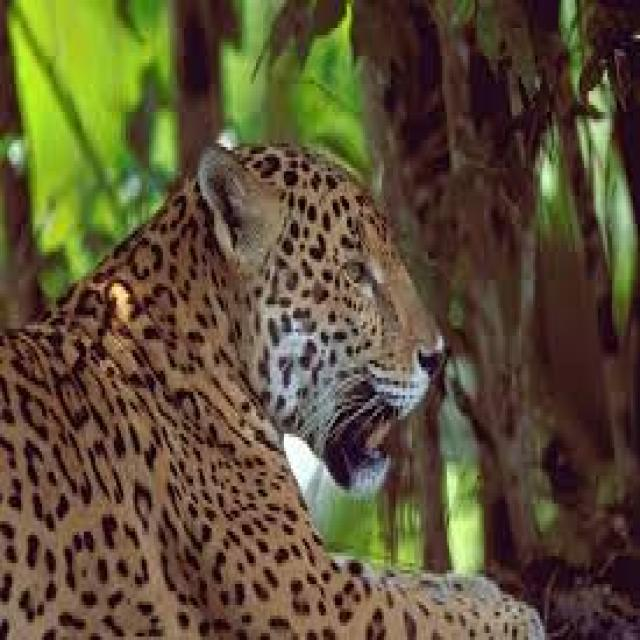Jaguar: (2, 136, 542, 640)
